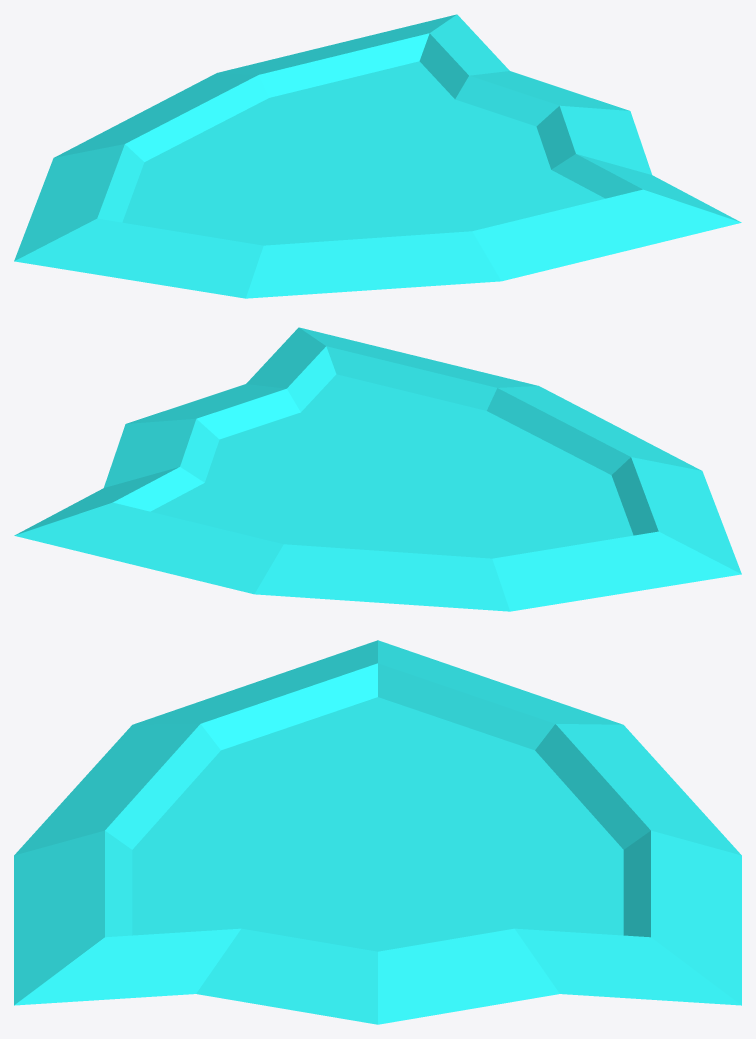
Rendered from ZablokowanieAtaku.fbx.
The picture shows the model from 3 angles, top to bottom: view 1: azimuth 30°, elevation 25°; view 2: azimuth 150°, elevation 25°; view 3: azimuth 270°, elevation 25°; orthographic projection. The views are drawn at different scales.
Visible parts, largest first — view 1: Cylinder; view 2: Cylinder; view 3: Cylinder.
Boxes of the visible parts, left/top/right/bottom form: Cylinder: left=14, top=14, right=741, bottom=298; Cylinder: left=14, top=327, right=741, bottom=611; Cylinder: left=14, top=640, right=741, bottom=1024.
Bounding box in the file's own units: 500 × 17.5 × 400.
